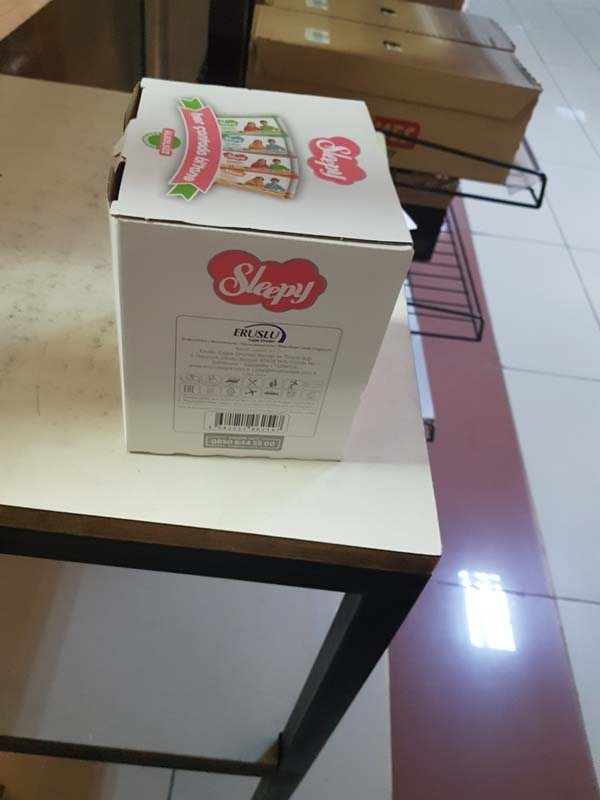sleepyogrencikoli: (90, 72, 423, 474)
